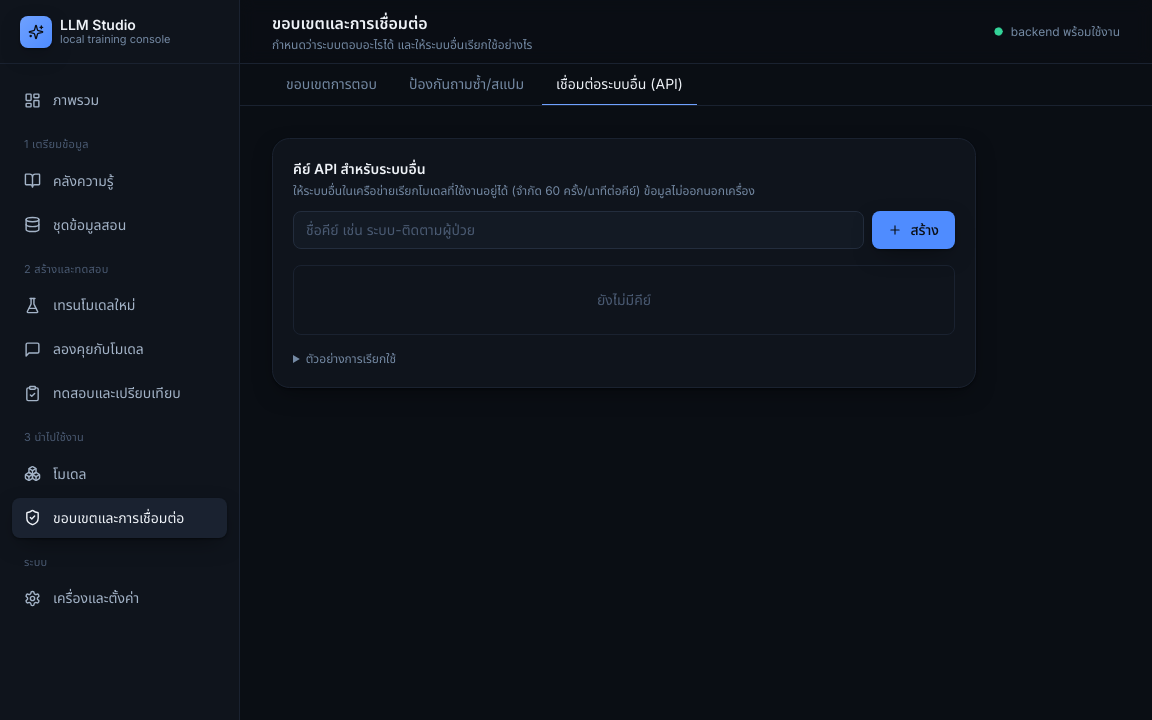
ตั้งค่า › สร้างคีย์ API แล้วแสดงคีย์เต็มให้เห็นครั้งเดียว
In the field with placeholder "ชื่อคีย์ เช่น ระบบ-ติดตามผู้ป่วย": (579, 230) [293,211,864,249], type "ระบบทดสอบ"
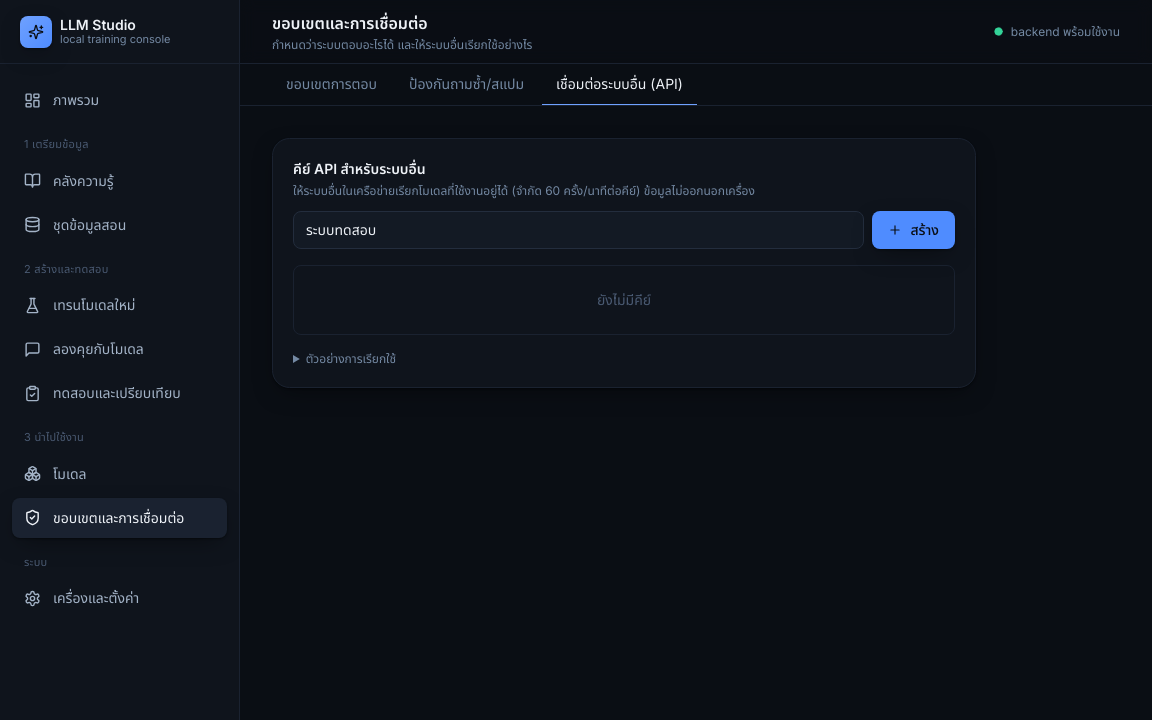
Click the button "สร้าง": (914, 230) [872,211,955,249]
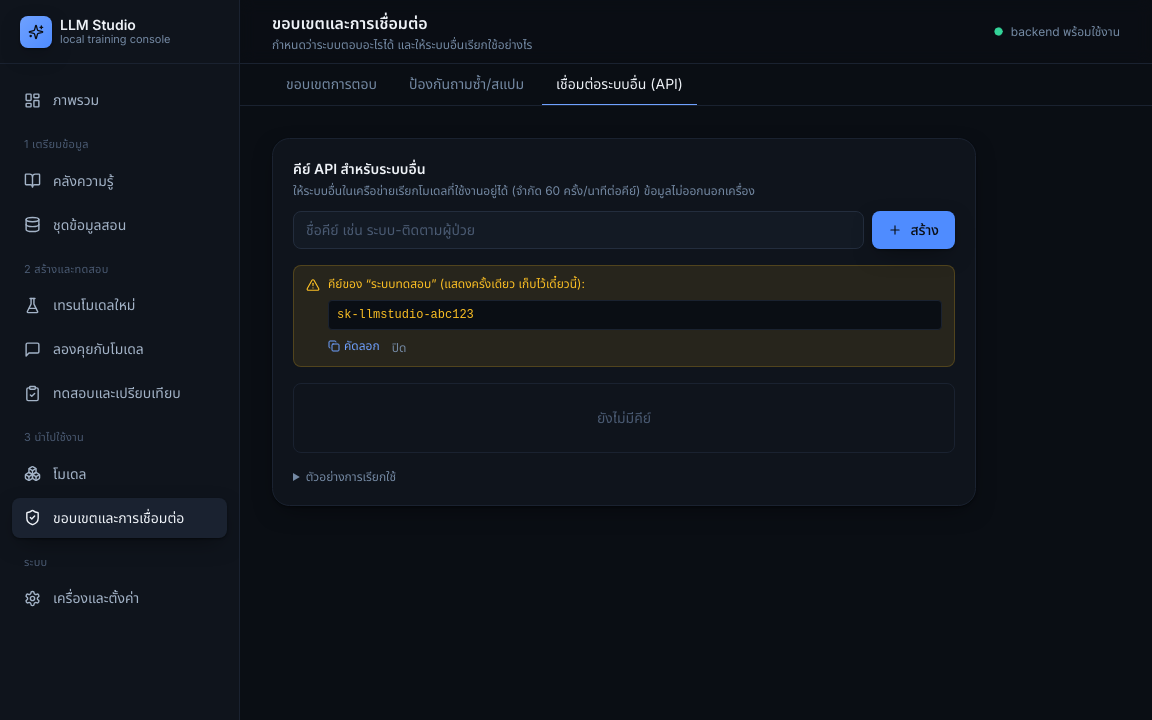
Now the text "sk-llmstudio-abc123" is shown, box [328,300,942,330]
